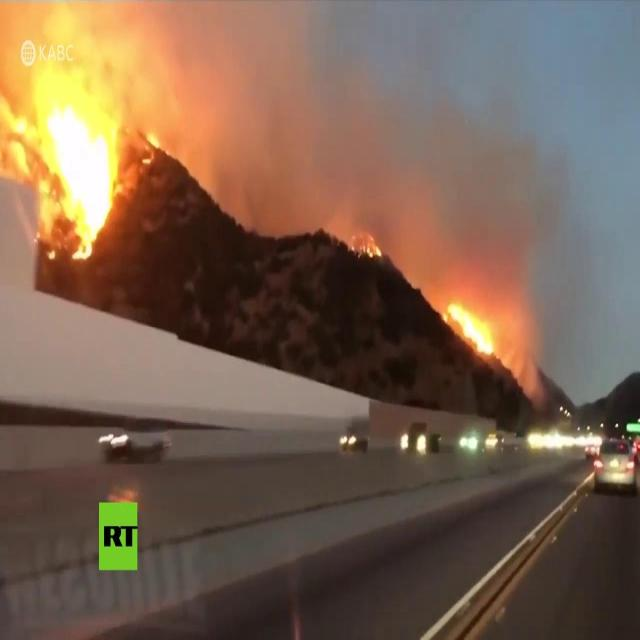Fire: (3, 71, 119, 268), (442, 298, 494, 356), (141, 131, 158, 165), (364, 234, 382, 260)
